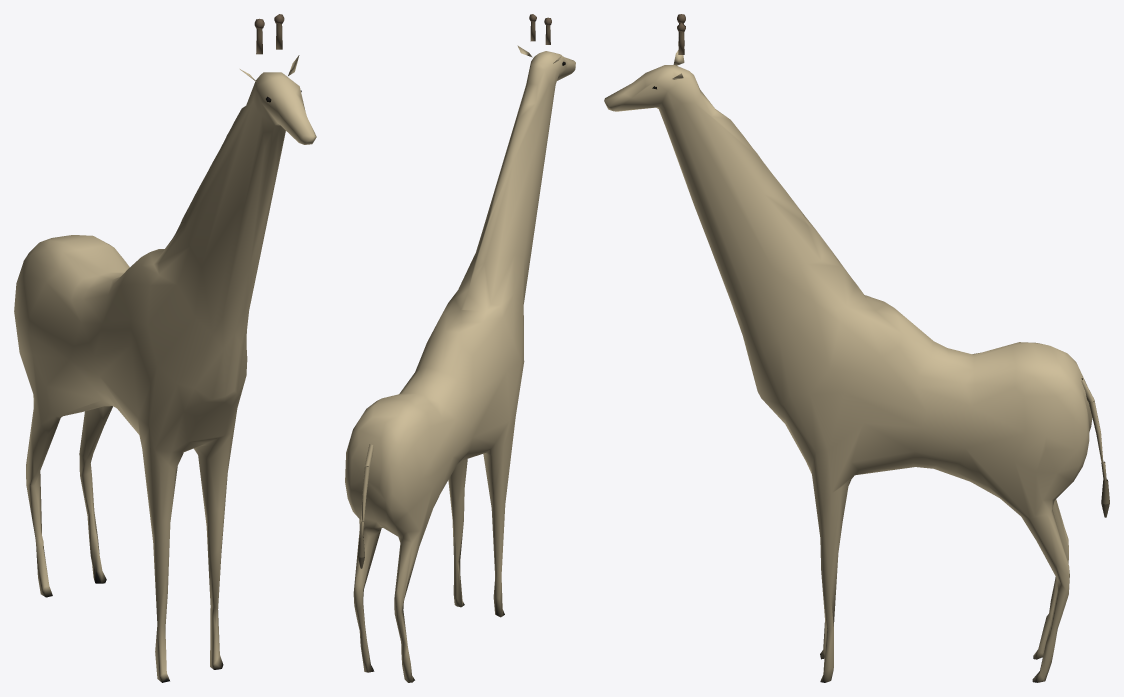
File: giraffe.glb
The picture shows the model from 3 angles, left to right: view 1: azimuth 30°, elevation 25°; view 2: azimuth 150°, elevation 25°; view 3: azimuth 270°, elevation 25°; orthographic projection. The views are drawn at different scales.
Parts seen in each view (by area): view 1: lack; view 2: lack; view 3: lack.
Boxes of the visible parts, bbox=[...] form: lack: bbox=[14, 14, 316, 682]; lack: bbox=[345, 14, 575, 682]; lack: bbox=[604, 14, 1109, 682].
Bounding box in the file's own units: 0.7993 × 5.57 × 3.91.
